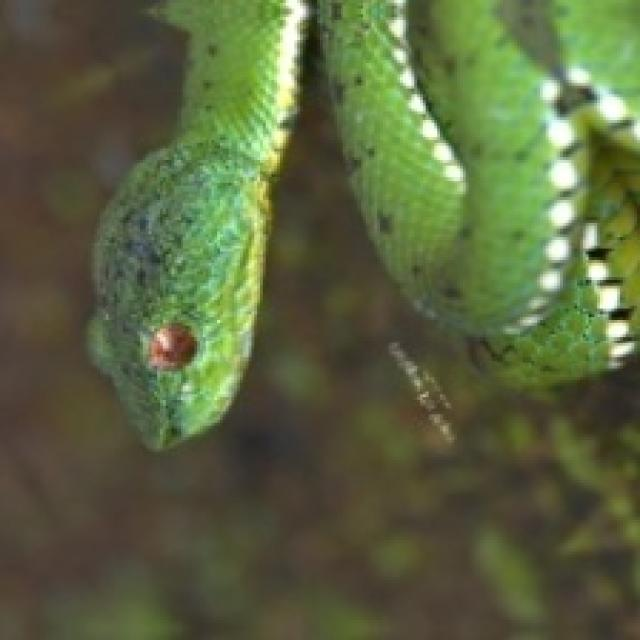philippine pitviper: (317, 0, 637, 383), (89, 0, 306, 446)
